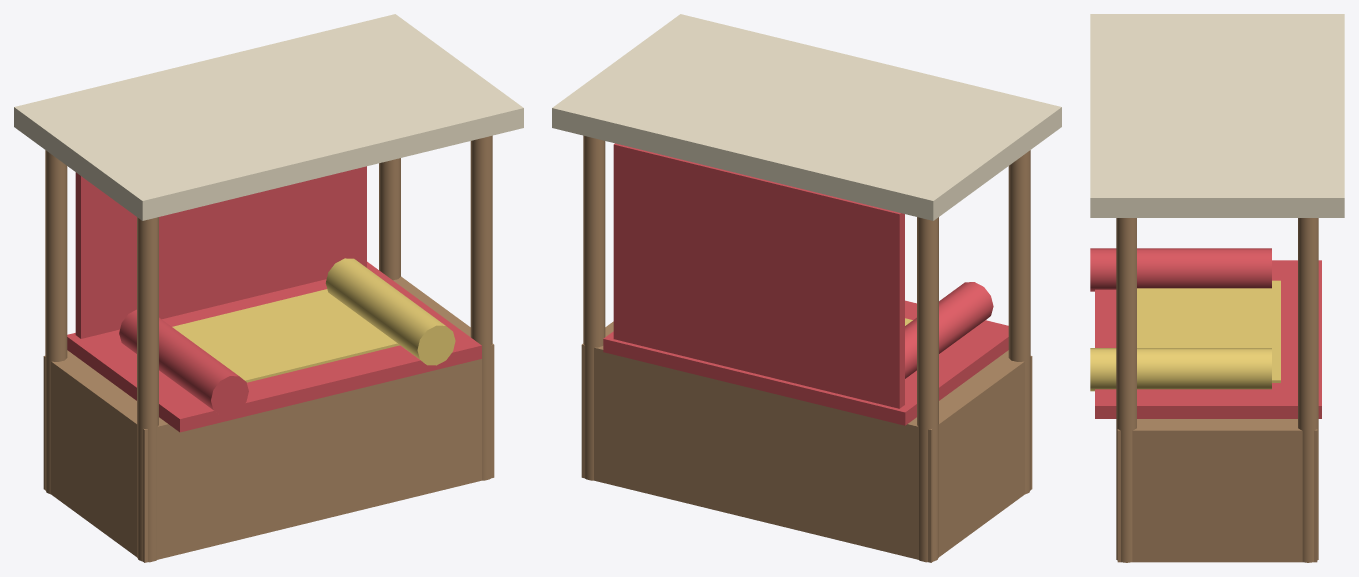
Rendered from prop_carpet_stall.glb.
3 renders of one model, left to right at view 1: azimuth 30°, elevation 25°; view 2: azimuth 150°, elevation 25°; view 3: azimuth 270°, elevation 25°, orthographic.
Visible parts, largest first — view 1: prop_carpet_stall; view 2: prop_carpet_stall; view 3: prop_carpet_stall.
Boxes of the visible parts, x1,y1,x2,y2 form: prop_carpet_stall: (14, 14, 523, 562); prop_carpet_stall: (552, 14, 1061, 562); prop_carpet_stall: (1090, 14, 1344, 562).
Bounding box in the file's own units: 2.4 × 2.26 × 1.4.
